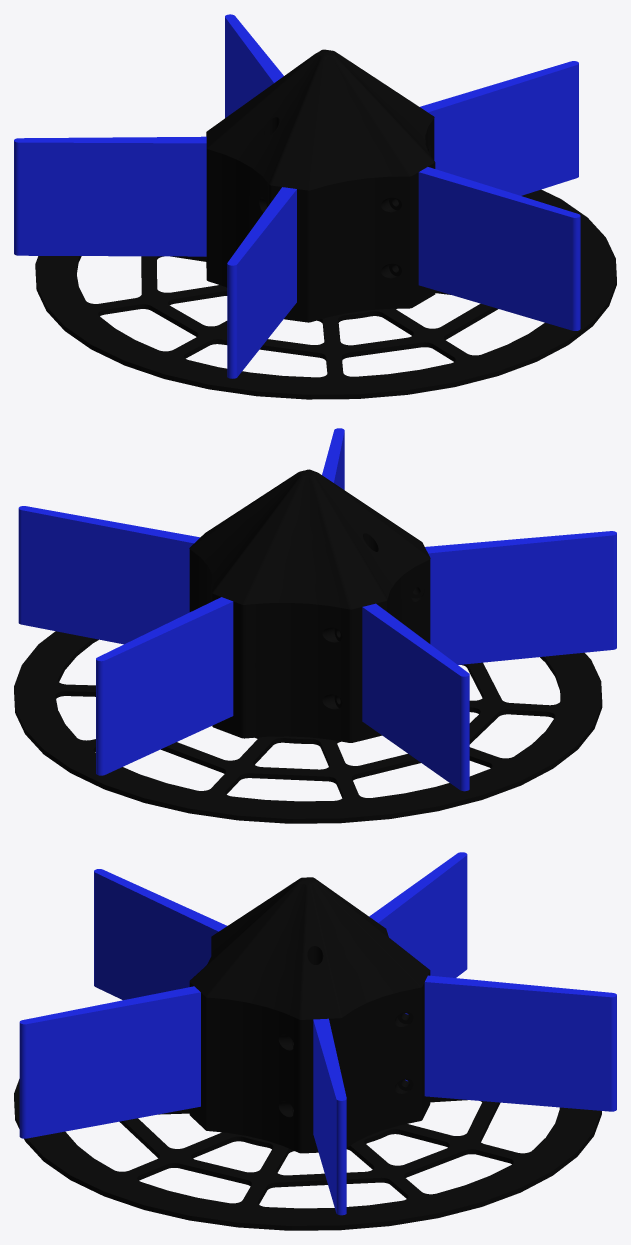
3 renders of one model, top to bottom at view 1: azimuth 30°, elevation 25°; view 2: azimuth 150°, elevation 25°; view 3: azimuth 270°, elevation 25°, orthographic.
Parts seen in each view (by area): view 1: PLATE,BOTTOM:1, CAST,SLAB-OF-FLOP:4, 3DPRINT,HUB:1, 3DPRINT,HUB,CONE:1, CAST,SLAB-OF-FLOP:2, CAST,SLAB-OF-FLOP:1, CAST,SLAB-OF-FLOP:3, CAST,SLAB-OF-FLOP:5; view 2: PLATE,BOTTOM:1, CAST,SLAB-OF-FLOP:3, 3DPRINT,HUB:1, 3DPRINT,HUB,CONE:1, CAST,SLAB-OF-FLOP:1, CAST,SLAB-OF-FLOP:5, CAST,SLAB-OF-FLOP:4, CAST,SLAB-OF-FLOP:2; view 3: PLATE,BOTTOM:1, 3DPRINT,HUB:1, CAST,SLAB-OF-FLOP:5, CAST,SLAB-OF-FLOP:2, 3DPRINT,HUB,CONE:1, CAST,SLAB-OF-FLOP:3, CAST,SLAB-OF-FLOP:4, CAST,SLAB-OF-FLOP:1.
Boxes of the visible parts, x1=… form: PLATE,BOTTOM:1: x1=35, y1=189, x2=616, y2=399; CAST,SLAB-OF-FLOP:4: x1=14, y1=136, x2=206, y2=256; 3DPRINT,HUB:1: x1=206, y1=118, x2=435, y2=322; 3DPRINT,HUB,CONE:1: x1=206, y1=49, x2=434, y2=190; CAST,SLAB-OF-FLOP:2: x1=418, y1=167, x2=580, y2=330; CAST,SLAB-OF-FLOP:1: x1=420, y1=61, x2=578, y2=195; CAST,SLAB-OF-FLOP:3: x1=227, y1=187, x2=296, y2=378; CAST,SLAB-OF-FLOP:5: x1=225, y1=14, x2=283, y2=117; PLATE,BOTTOM:1: x1=14, y1=631, x2=602, y2=823; CAST,SLAB-OF-FLOP:3: x1=425, y1=531, x2=616, y2=664; 3DPRINT,HUB:1: x1=189, y1=549, x2=430, y2=742; 3DPRINT,HUB,CONE:1: x1=189, y1=469, x2=430, y2=609; CAST,SLAB-OF-FLOP:1: x1=18, y1=506, x2=199, y2=644; CAST,SLAB-OF-FLOP:5: x1=96, y1=597, x2=233, y2=775; CAST,SLAB-OF-FLOP:4: x1=362, y1=603, x2=469, y2=791; CAST,SLAB-OF-FLOP:2: x1=322, y1=428, x2=344, y2=489; PLATE,BOTTOM:1: x1=14, y1=1079, x2=601, y2=1230; 3DPRINT,HUB:1: x1=189, y1=938, x2=430, y2=1153; CAST,SLAB-OF-FLOP:5: x1=405, y1=975, x2=616, y2=1111; CAST,SLAB-OF-FLOP:2: x1=19, y1=986, x2=200, y2=1138; 3DPRINT,HUB,CONE:1: x1=189, y1=877, x2=430, y2=1019; CAST,SLAB-OF-FLOP:3: x1=94, y1=869, x2=226, y2=1000; CAST,SLAB-OF-FLOP:4: x1=369, y1=852, x2=467, y2=977; CAST,SLAB-OF-FLOP:1: x1=313, y1=1018, x2=346, y2=1215.
Size of the model in its own units: 0.3668 by 0.1508 by 0.364.
